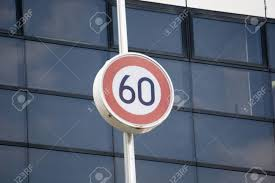Speed_limit_60km: (100, 52, 177, 128)
